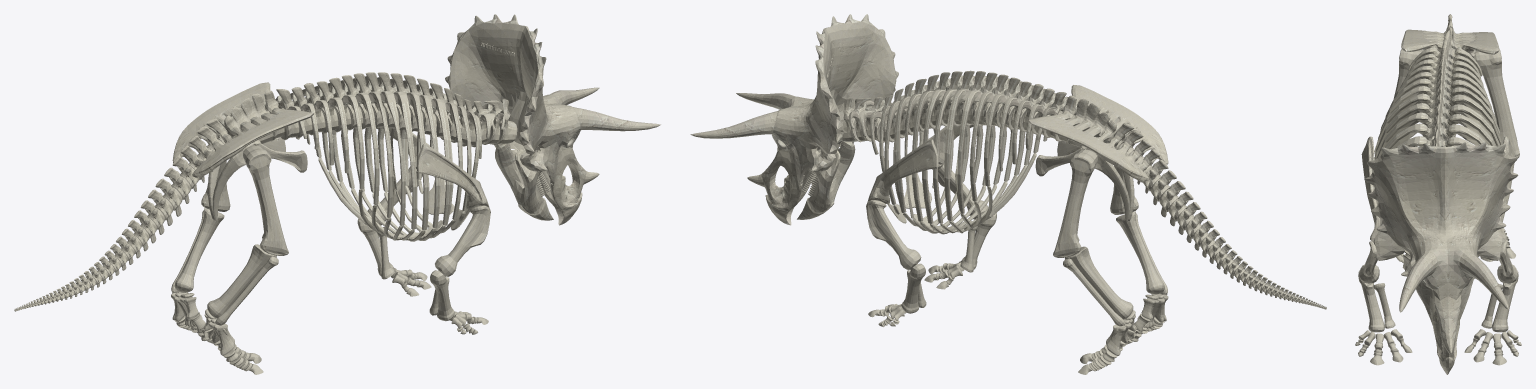
The model's file is guang.glb.
3 renders of one model, left to right at view 1: azimuth 30°, elevation 25°; view 2: azimuth 150°, elevation 25°; view 3: azimuth 270°, elevation 25°, orthographic.
Parts seen in each view (by area): view 1: Mesh_0; view 2: Mesh_0; view 3: Mesh_0.
Part boxes in pixels (x1,y1,x2,y2): Mesh_0: (14,14,660,374); Mesh_0: (690,14,1326,374); Mesh_0: (1355,14,1521,374).
Bounding box in the file's own units: 2.5 × 0.9909 × 0.5755.
1 material, 1 textured.
